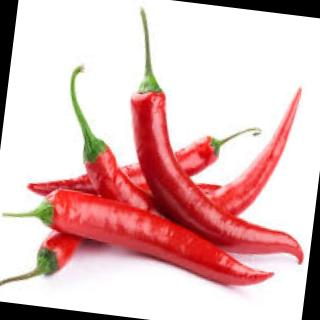Cabai Merah: (116, 91, 313, 266), (1, 182, 247, 315)
